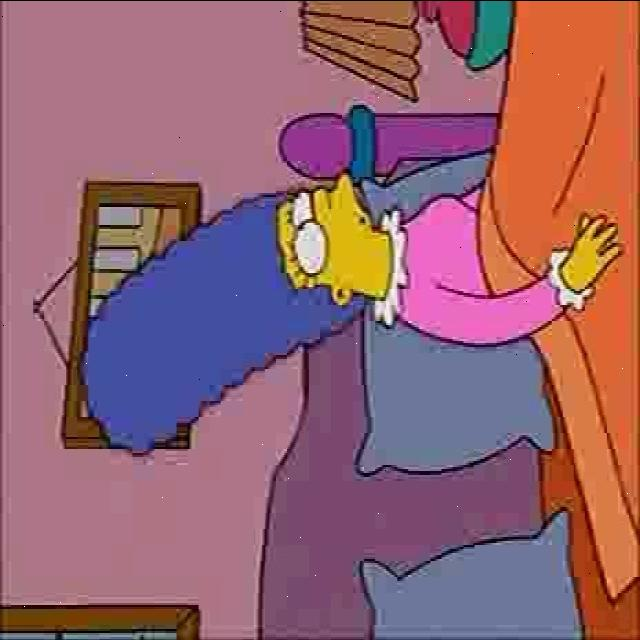Marge Simpson: (82, 168, 410, 456)
